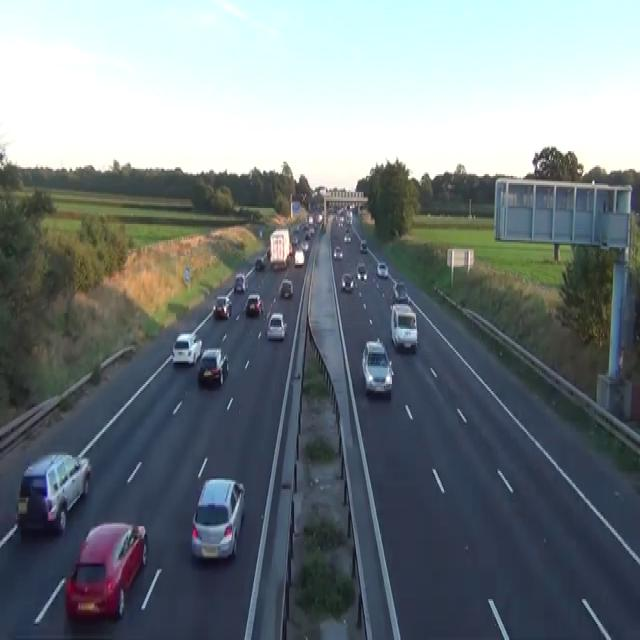Car: (65, 521, 148, 620), (16, 452, 91, 534), (191, 476, 245, 560), (361, 338, 393, 394), (390, 302, 418, 350), (198, 346, 229, 386), (171, 330, 202, 364), (266, 311, 287, 340), (212, 295, 232, 318), (245, 294, 263, 316), (392, 281, 409, 302), (340, 272, 355, 292), (233, 272, 247, 293), (279, 277, 293, 297), (356, 261, 367, 281), (376, 262, 388, 278), (294, 249, 304, 267), (333, 243, 343, 260), (272, 260, 287, 270), (255, 256, 265, 270), (359, 238, 367, 252), (441, 182, 455, 190), (300, 240, 308, 252), (291, 235, 299, 245), (308, 224, 315, 235), (320, 222, 326, 233), (446, 182, 454, 190), (344, 233, 351, 242), (338, 217, 344, 227), (304, 230, 311, 238), (344, 224, 350, 233), (266, 247, 270, 260), (308, 215, 313, 224), (289, 242, 292, 256), (317, 214, 322, 222), (259, 228, 262, 236)
Truck: (268, 228, 291, 268)
